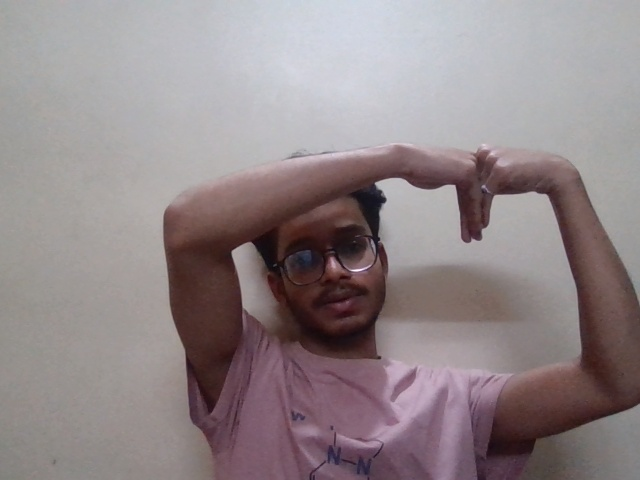yesterday: (377, 130, 559, 253)
